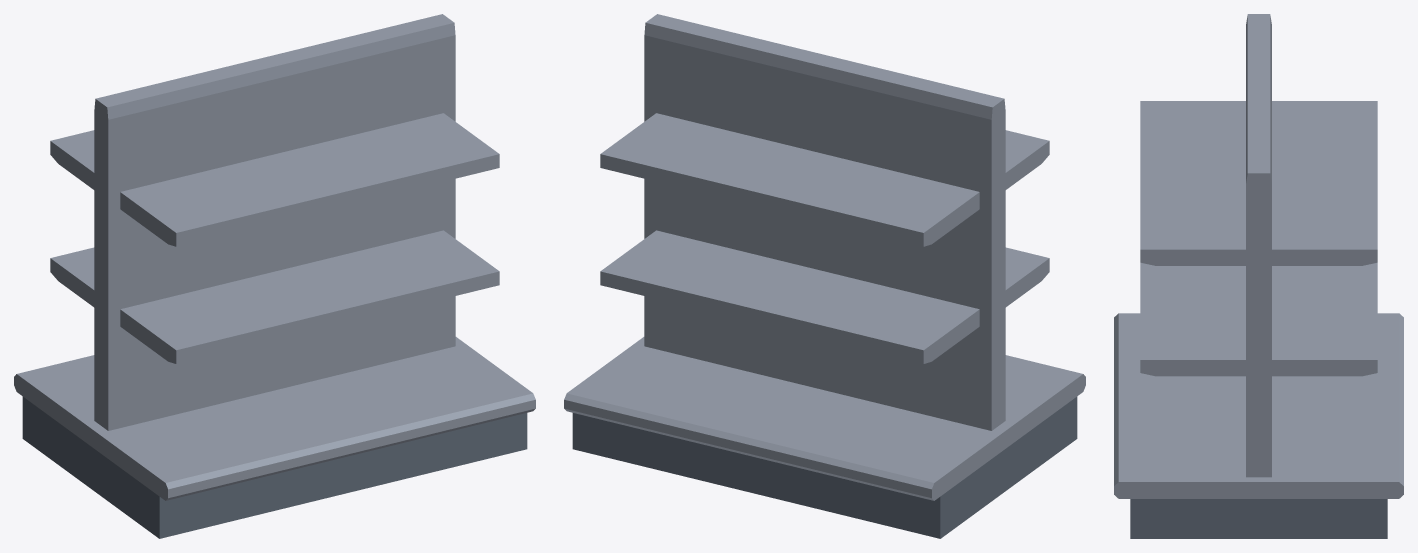
The model's file is ShopShelf_02.fbx.
3 renders of one model, left to right at view 1: azimuth 30°, elevation 25°; view 2: azimuth 150°, elevation 25°; view 3: azimuth 270°, elevation 25°, orthographic. The views are drawn at different scales.
Parts seen in each view (by area): view 1: Base, Shelf_2, Shelf_4, Shelf_1, Shelf_3; view 2: Base, Shelf_1, Shelf_3, Shelf_2, Shelf_4; view 3: Base, Shelf_3, Shelf_4, Shelf_1, Shelf_2.
Boxes of the visible parts, x1,y1,x2,y2 form: Base: (14, 14, 535, 538); Shelf_2: (120, 230, 499, 363); Shelf_4: (120, 113, 499, 246); Shelf_1: (50, 247, 94, 307); Shelf_3: (50, 130, 94, 189); Base: (564, 14, 1085, 538); Shelf_1: (600, 230, 979, 363); Shelf_3: (600, 113, 979, 246); Shelf_2: (1005, 247, 1049, 307); Shelf_4: (1005, 130, 1049, 189); Base: (1114, 14, 1403, 538); Shelf_3: (1272, 101, 1377, 265); Shelf_4: (1140, 101, 1245, 265); Shelf_1: (1272, 262, 1377, 376); Shelf_2: (1140, 262, 1245, 376).
Bounding box in the file's own units: 169 × 168 × 123.
